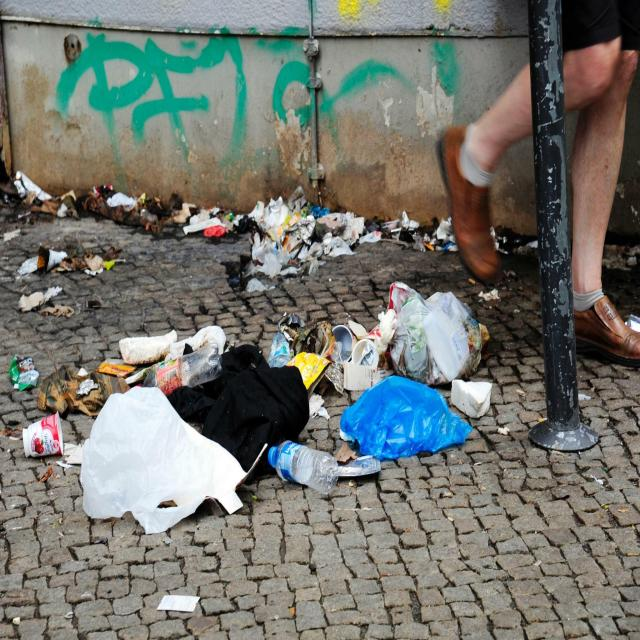garbage: (54, 168, 511, 550)
